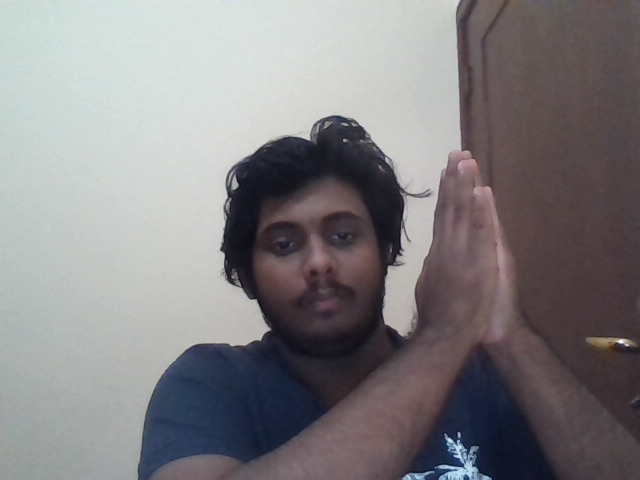namaste: (414, 150, 521, 343)
